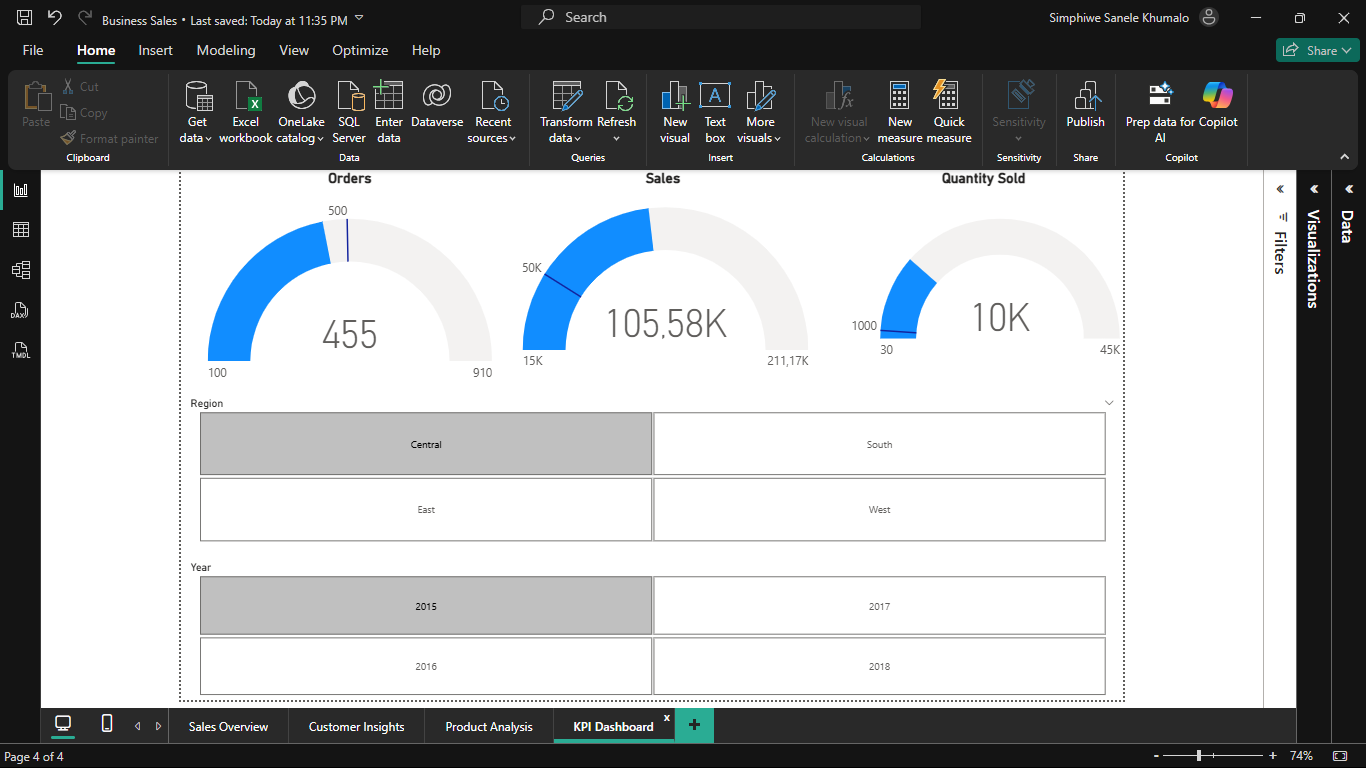

The dashboard page shown, as its layout file describes it:
{"tool":"powerbi","page":{"name":"KPI Dashboard","canvas":[1280,720],"ordinal":3},"visuals":[{"type":"slicer","fields":{"Values":["Sales_Info.Region"]},"box":[0,304,1280,206.6],"z":1},{"type":"slicer","fields":{"Values":["Sales_Info.Order Date.Variation.Date Hierarchy.Year"]},"box":[0,527.5,1280,193.2],"z":2},{"type":"gauge","title":"Orders","fields":{"Y":["CountNonNull(Sales_Info.Order ID)"],"TargetValue":["Sales_Info.Orders Target"],"MinValue":["Sales_Info.Orders Min"]},"box":[31.9,0,396.4,304],"z":3},{"type":"gauge","title":"Sales","fields":{"Y":["Sum(Sales_Info.Sales Amount)"],"MinValue":["Sales_Info.Sales Min"],"TargetValue":["Sales_Info.Sales Target"]},"box":[451.9,0,404.8,304],"z":4},{"type":"gauge","title":"Quantity Sold","fields":{"Y":["Sum(Sales_Info.Quantity)"],"MinValue":["Sales_Info.Units Min"],"MaxValue":["Sales_Info.Units Max"],"TargetValue":["Sales_Info.Units Target"]},"box":[900.4,0,379.6,304],"z":5}]}

Visuals, with their boxes on the page's 1280x720 design canvas (x1, y1, x2, y2). These are canvas units, not pixel positions in the 1366x768 screenshot, which may show the page scaled, cropped or inside an application window:
slicer - Sales_Info.Region: box(0, 304, 1280, 511)
slicer - Sales_Info.Order Date.Variation.Date Hierarchy.Year: box(0, 528, 1280, 721)
"Orders" gauge: box(32, 0, 428, 304)
"Sales" gauge: box(452, 0, 857, 304)
"Quantity Sold" gauge: box(900, 0, 1280, 304)
